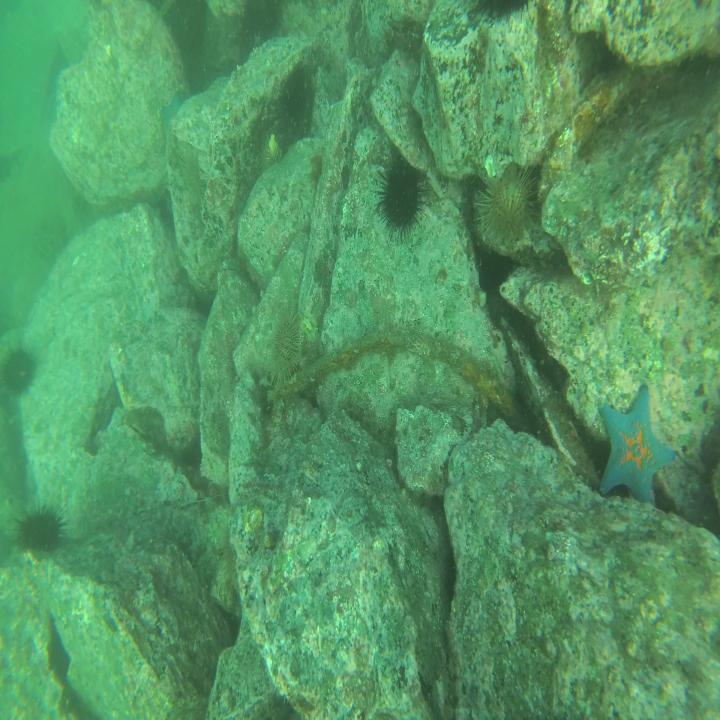echinus: (476, 174, 535, 245), (379, 158, 421, 235), (269, 316, 305, 390), (18, 507, 62, 555), (2, 348, 36, 397), (281, 60, 310, 117)
starfish: (598, 385, 675, 503), (160, 93, 185, 140)
